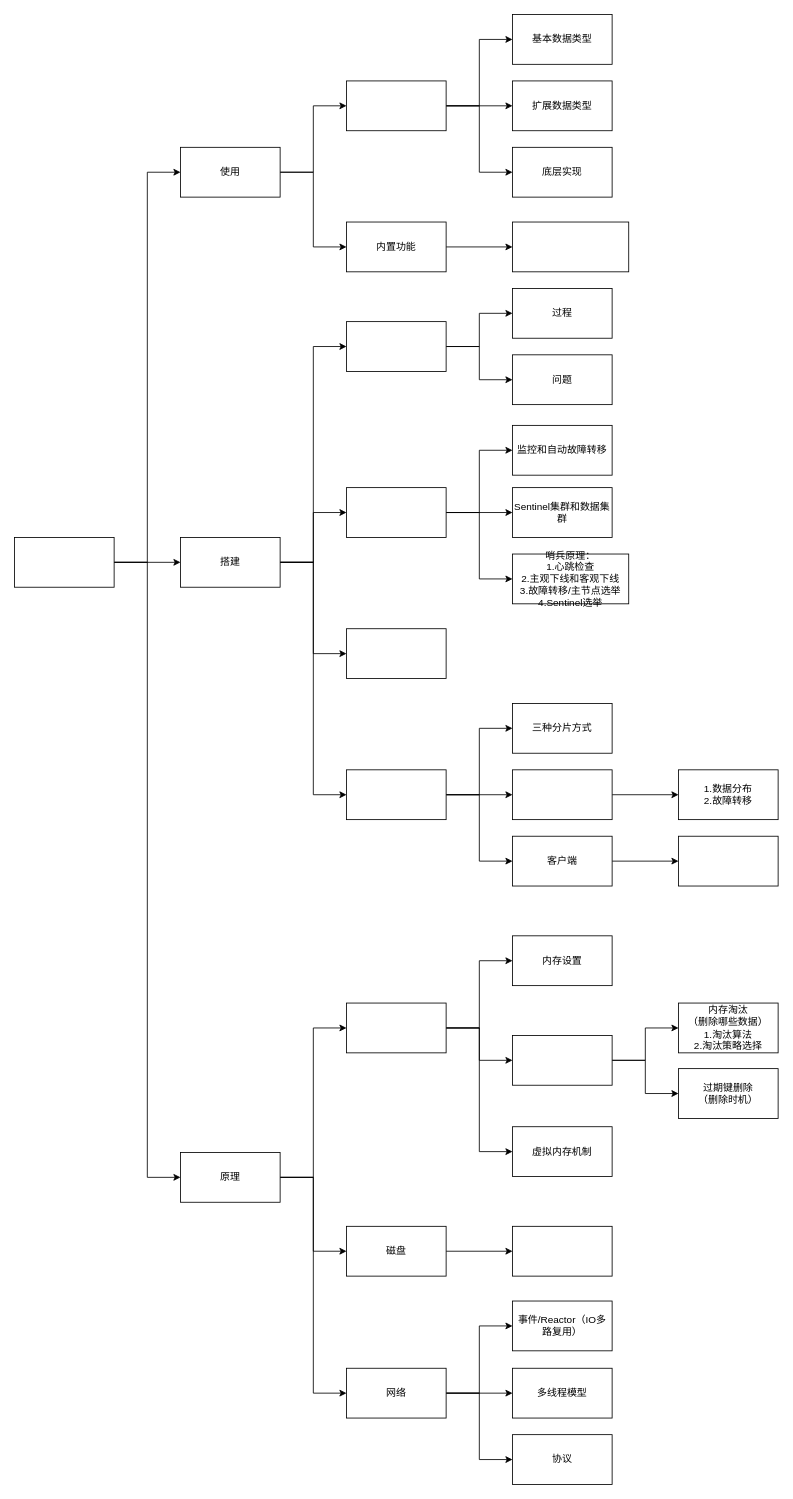
This 793x1499 diagram has some shape labels left out. Each missing label, with the centre of its shape:
"1.RedisPipeline/批处理 2.Redis事务 3.Redis和Lua 4.Redis实现队列" goes at (570,246).
"1.请求重定向 2.ASK重定向" goes at (728,860).
"Redis" goes at (64,562).
"主从复制" goes at (396,346).
"内存" goes at (396,1027).
"内存淘汰" goes at (562,1060).
"哨兵模式" goes at (396,512).
"持久化" goes at (562,1250).
"数据类型" goes at (396,105).
"服务端" goes at (562,794).
"读写分离" goes at (396,653).
"集群模式" goes at (396,794).
